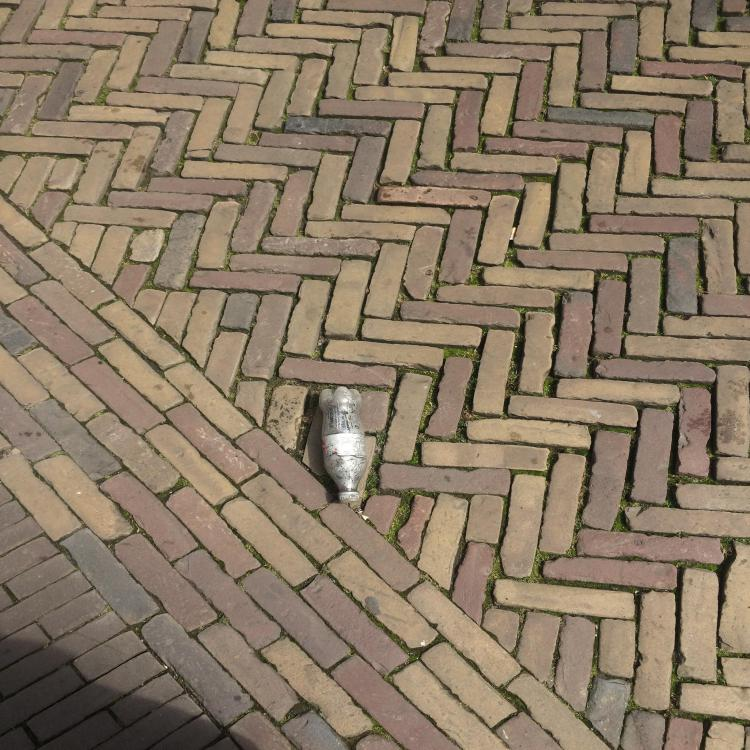Cigarette: (510, 227, 517, 240)
Clear plastic bottle: (318, 386, 367, 504)
Plastic bottle cap: (338, 493, 359, 504)
